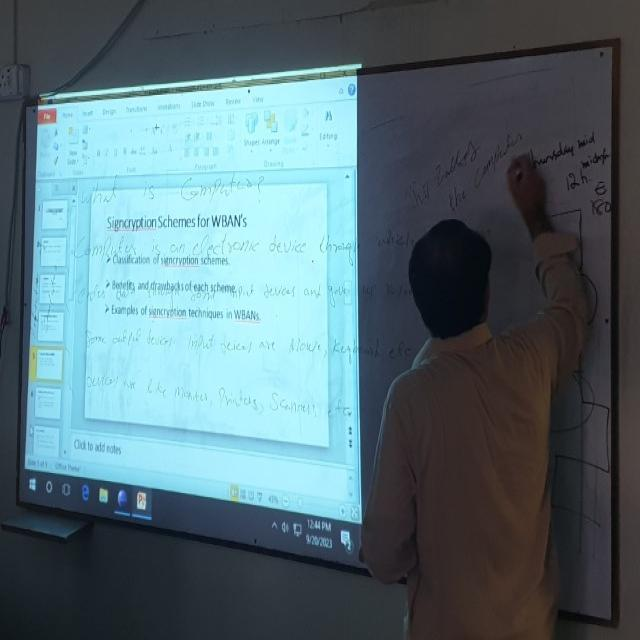Instructor: (376, 205, 560, 629)
Slide: (25, 68, 362, 561)
White-board: (17, 46, 617, 626)
